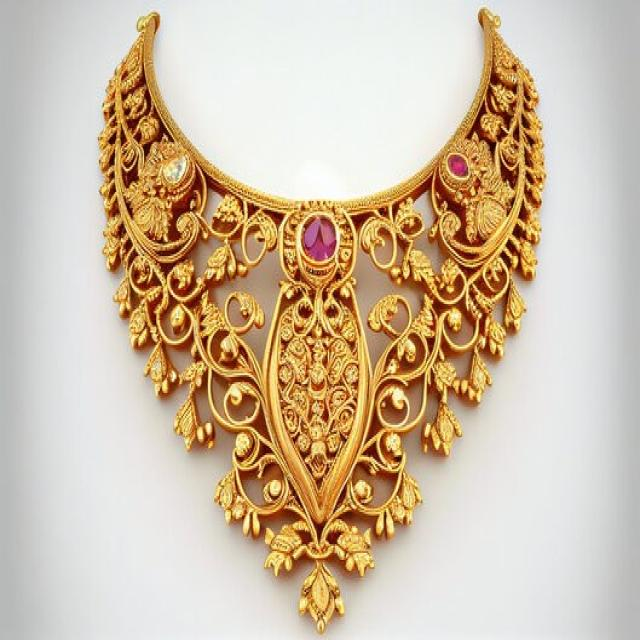missing gem: (165, 156, 187, 181)
